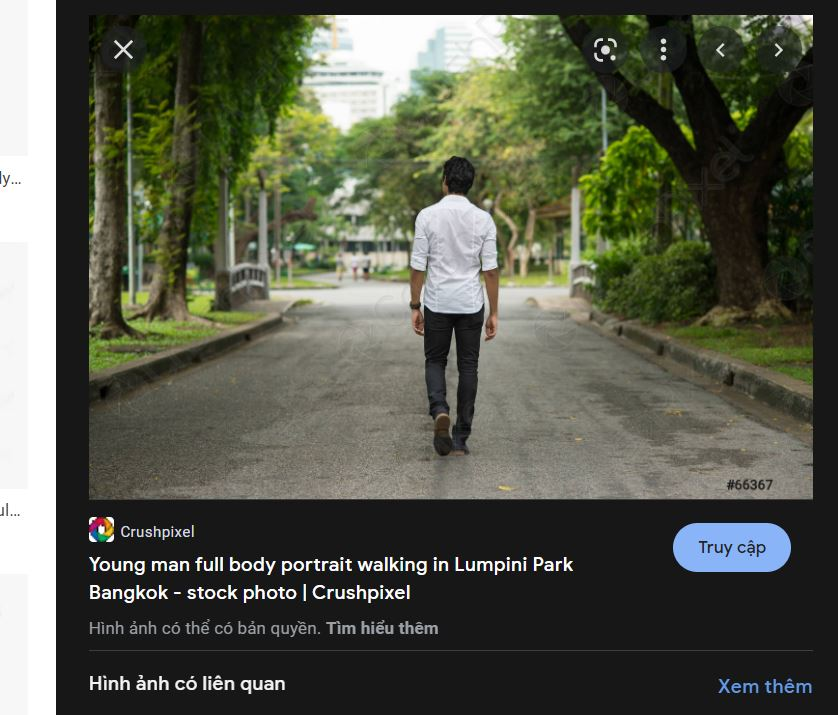person: (410, 157, 498, 457)
